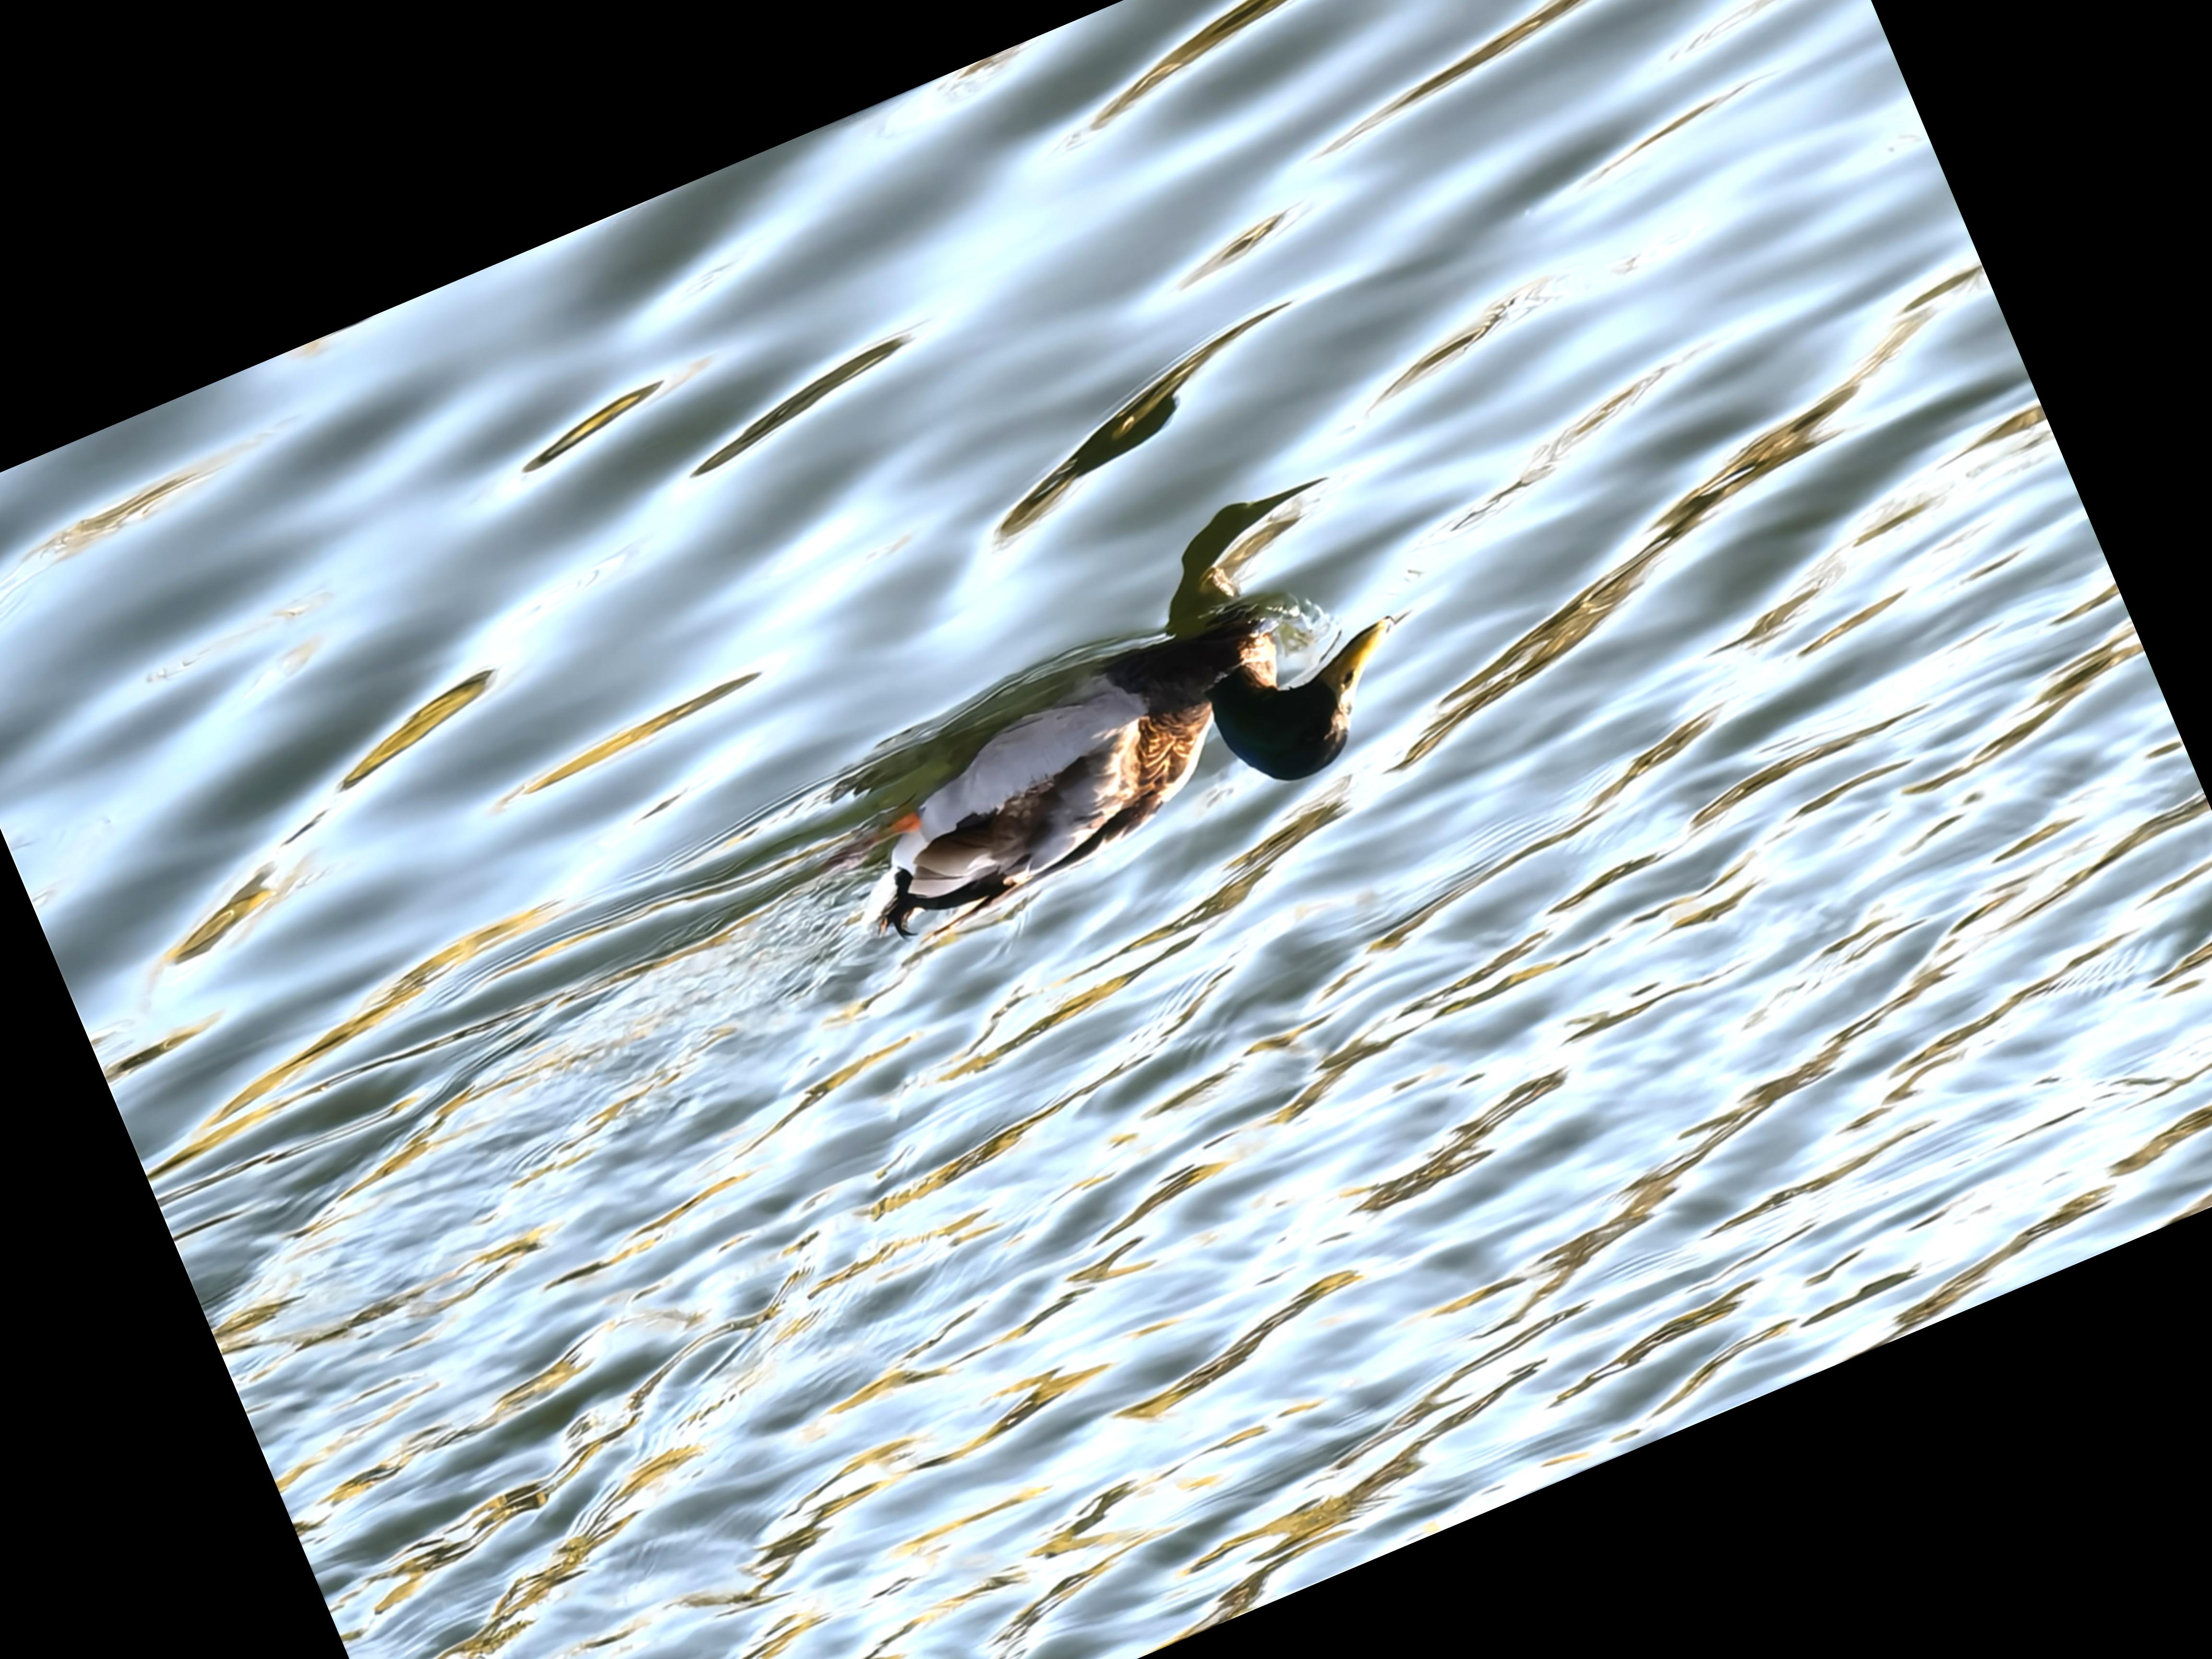duck: (740, 528, 1460, 1019)
